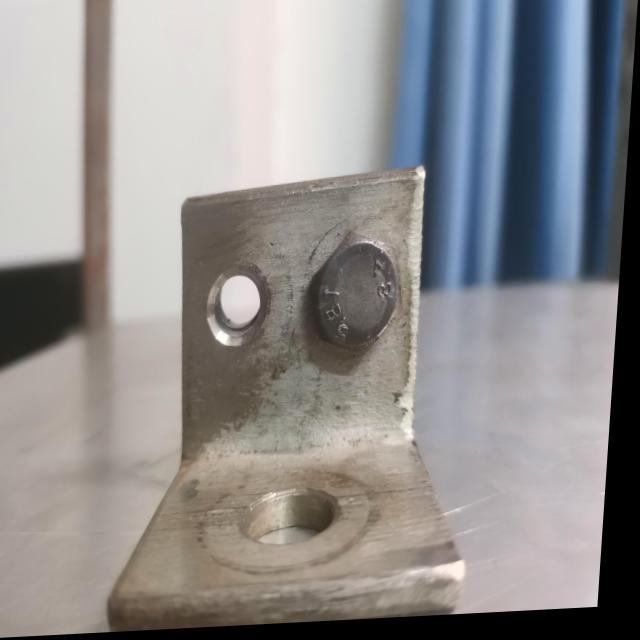Missing bolt: (239, 485, 349, 563), (207, 263, 278, 360)
Regular bolt: (312, 236, 412, 362)
